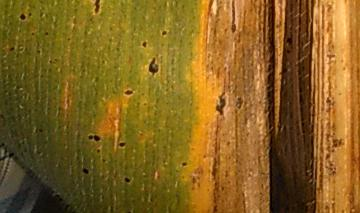tarspot: (214, 91, 228, 117), (146, 56, 160, 78), (234, 95, 244, 110), (284, 34, 294, 46), (93, 1, 101, 15), (123, 88, 134, 97), (122, 175, 133, 184), (18, 13, 26, 22), (92, 134, 101, 142), (36, 127, 45, 135), (141, 39, 148, 49), (8, 46, 16, 54), (81, 167, 90, 174), (117, 142, 127, 148), (285, 47, 292, 55), (26, 11, 33, 19), (87, 134, 94, 141), (29, 30, 36, 37), (181, 161, 188, 167), (95, 147, 102, 153), (161, 29, 167, 36), (100, 157, 106, 164), (36, 48, 42, 54), (43, 30, 49, 36), (125, 209, 132, 213)
